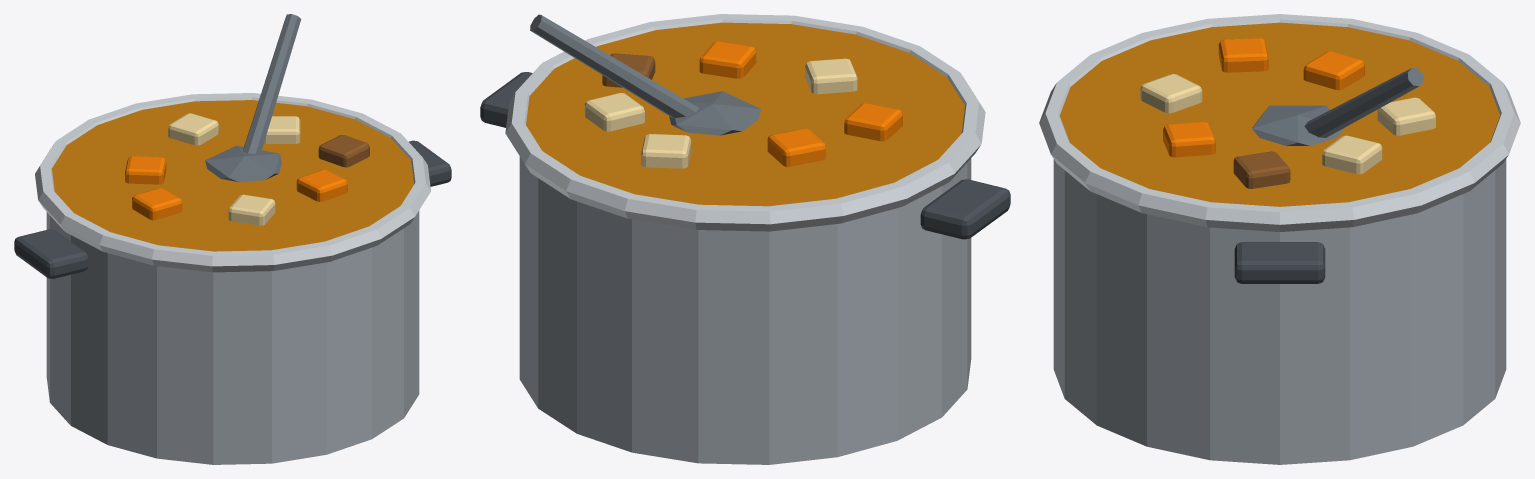
The model's file is hm_curry_pot.glb.
3 views of the same model, side by side, from view 1: azimuth 30°, elevation 25°; view 2: azimuth 150°, elevation 25°; view 3: azimuth 270°, elevation 25° (orthographic). The views are drawn at different scales.
Visible parts, largest first — view 1: Cylinder, Cylinder.001, Torus, Cube, Cone, Icosphere, Cube.003, Cube.008, Cube.007, Cube.006, Cube.005, Cube.002 (+2 smaller); view 2: Cylinder, Cylinder.001, Torus, Cone, Cube, Icosphere, Cube.004, Cube.002, Cube.006, Cube.003, Cube.005, Cube.007 (+2 smaller); view 3: Cylinder, Cylinder.001, Torus, Cube.001, Cone, Icosphere, Cube.005, Cube.002, Cube.004, Cube.008, Cube.007, Cube.003 (+1 smaller).
Part boxes in pixels (x1,y1,x2,y2): Cylinder: [46, 210, 419, 464]; Cylinder.001: [52, 100, 413, 251]; Torus: [35, 93, 430, 272]; Cube: [14, 229, 88, 278]; Cone: [243, 14, 301, 153]; Icosphere: [205, 145, 281, 182]; Cube.003: [296, 169, 347, 201]; Cube.008: [318, 135, 369, 167]; Cube.007: [168, 113, 218, 145]; Cube.006: [132, 188, 182, 220]; Cube.005: [228, 194, 275, 225]; Cube.002: [125, 156, 166, 184]; Cylinder: [519, 156, 971, 464]; Cylinder.001: [526, 22, 964, 206]; Torus: [505, 14, 985, 231]; Cone: [530, 14, 698, 117]; Cube: [920, 179, 1010, 239]; Icosphere: [669, 91, 761, 135]; Cube.004: [584, 93, 644, 131]; Cube.002: [767, 128, 825, 166]; Cube.006: [844, 103, 902, 141]; Cube.003: [699, 41, 756, 78]; Cube.005: [805, 58, 857, 94]; Cube.007: [641, 134, 691, 168]; Cylinder: [1053, 159, 1506, 464]; Cylinder.001: [1059, 22, 1500, 206]; Torus: [1039, 14, 1520, 231]; Cube.001: [1234, 242, 1325, 283]; Cone: [1304, 68, 1423, 137]; Icosphere: [1252, 105, 1344, 145]; Cube.005: [1140, 74, 1202, 113]; Cube.002: [1303, 51, 1364, 90]; Cube.004: [1322, 135, 1382, 174]; Cube.008: [1233, 151, 1290, 188]; Cube.007: [1377, 97, 1435, 135]; Cube.003: [1163, 121, 1215, 157].
Bounding box in the file's own units: 31.2 × 22.44 × 26.6.
